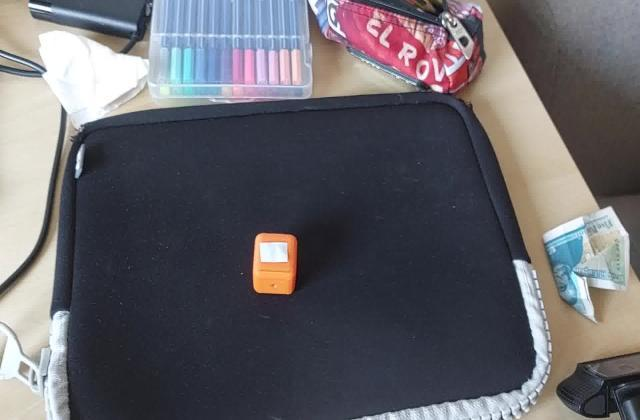sticker: (252, 232, 301, 296)
white: (257, 240, 292, 266)
